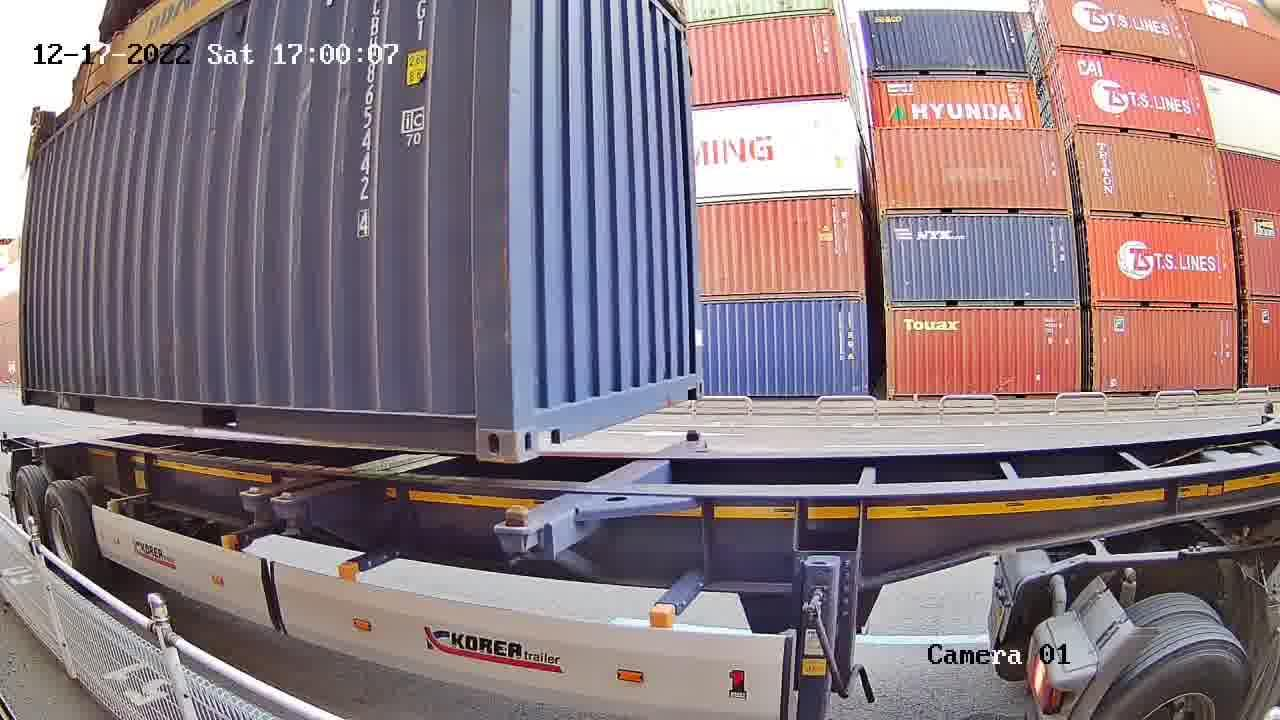Chassis: (499, 432, 710, 558)
Cone: (497, 530, 540, 571)
Container: (518, 353, 707, 465)
Hole_L: (517, 372, 562, 464)
Hole_R: (437, 375, 517, 462), (679, 353, 706, 402)
Tire: (1099, 640, 1260, 719), (40, 484, 81, 571)
